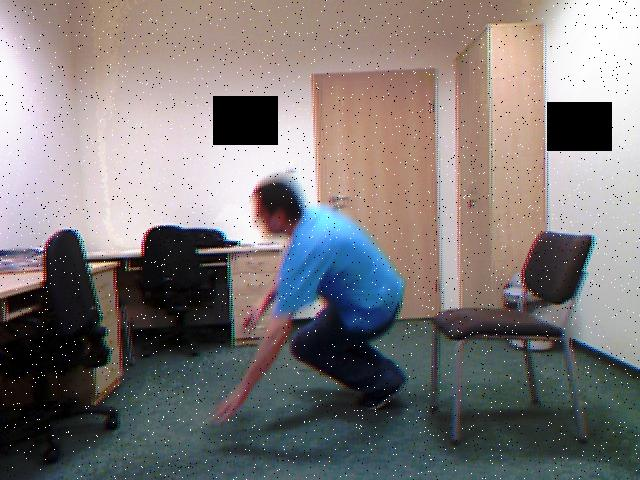near-fall: (202, 161, 421, 441)
